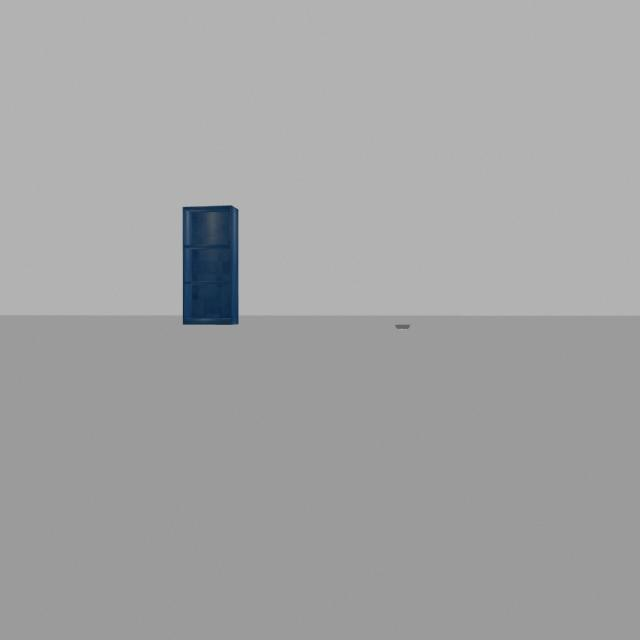bowl: (390, 316, 415, 334)
shelf: (178, 199, 245, 335)
